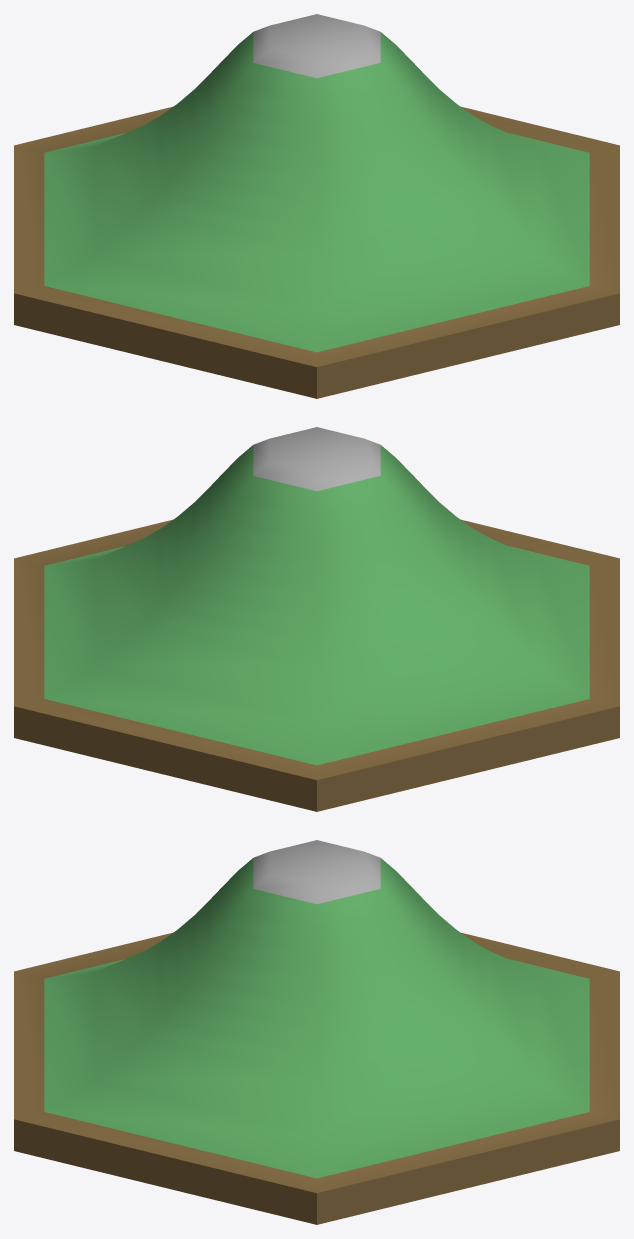
File: tile-mountan.fbx
The picture shows the model from 3 angles, top to bottom: view 1: azimuth 30°, elevation 25°; view 2: azimuth 150°, elevation 25°; view 3: azimuth 270°, elevation 25°; orthographic projection.
Visible parts, largest first — view 1: pCylinder3; view 2: pCylinder3; view 3: pCylinder3.
Boxes of the visible parts, x1=… form: pCylinder3: x1=14, y1=14, x2=619, y2=398; pCylinder3: x1=14, y1=427, x2=619, y2=811; pCylinder3: x1=14, y1=840, x2=619, y2=1224.
Bounding box in the file's own units: 20000 × 6745 × 17321.
